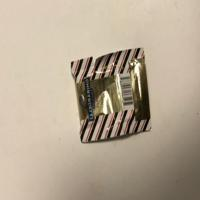plastic: (70, 46, 151, 144)
